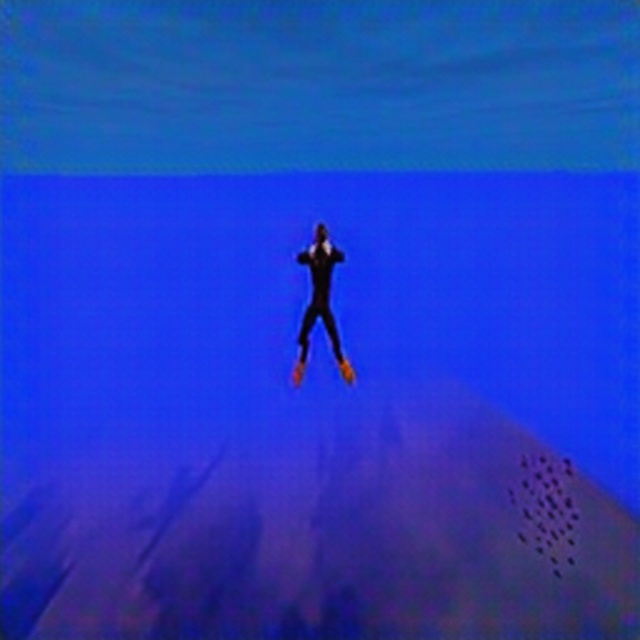diver: (290, 218, 356, 390)
